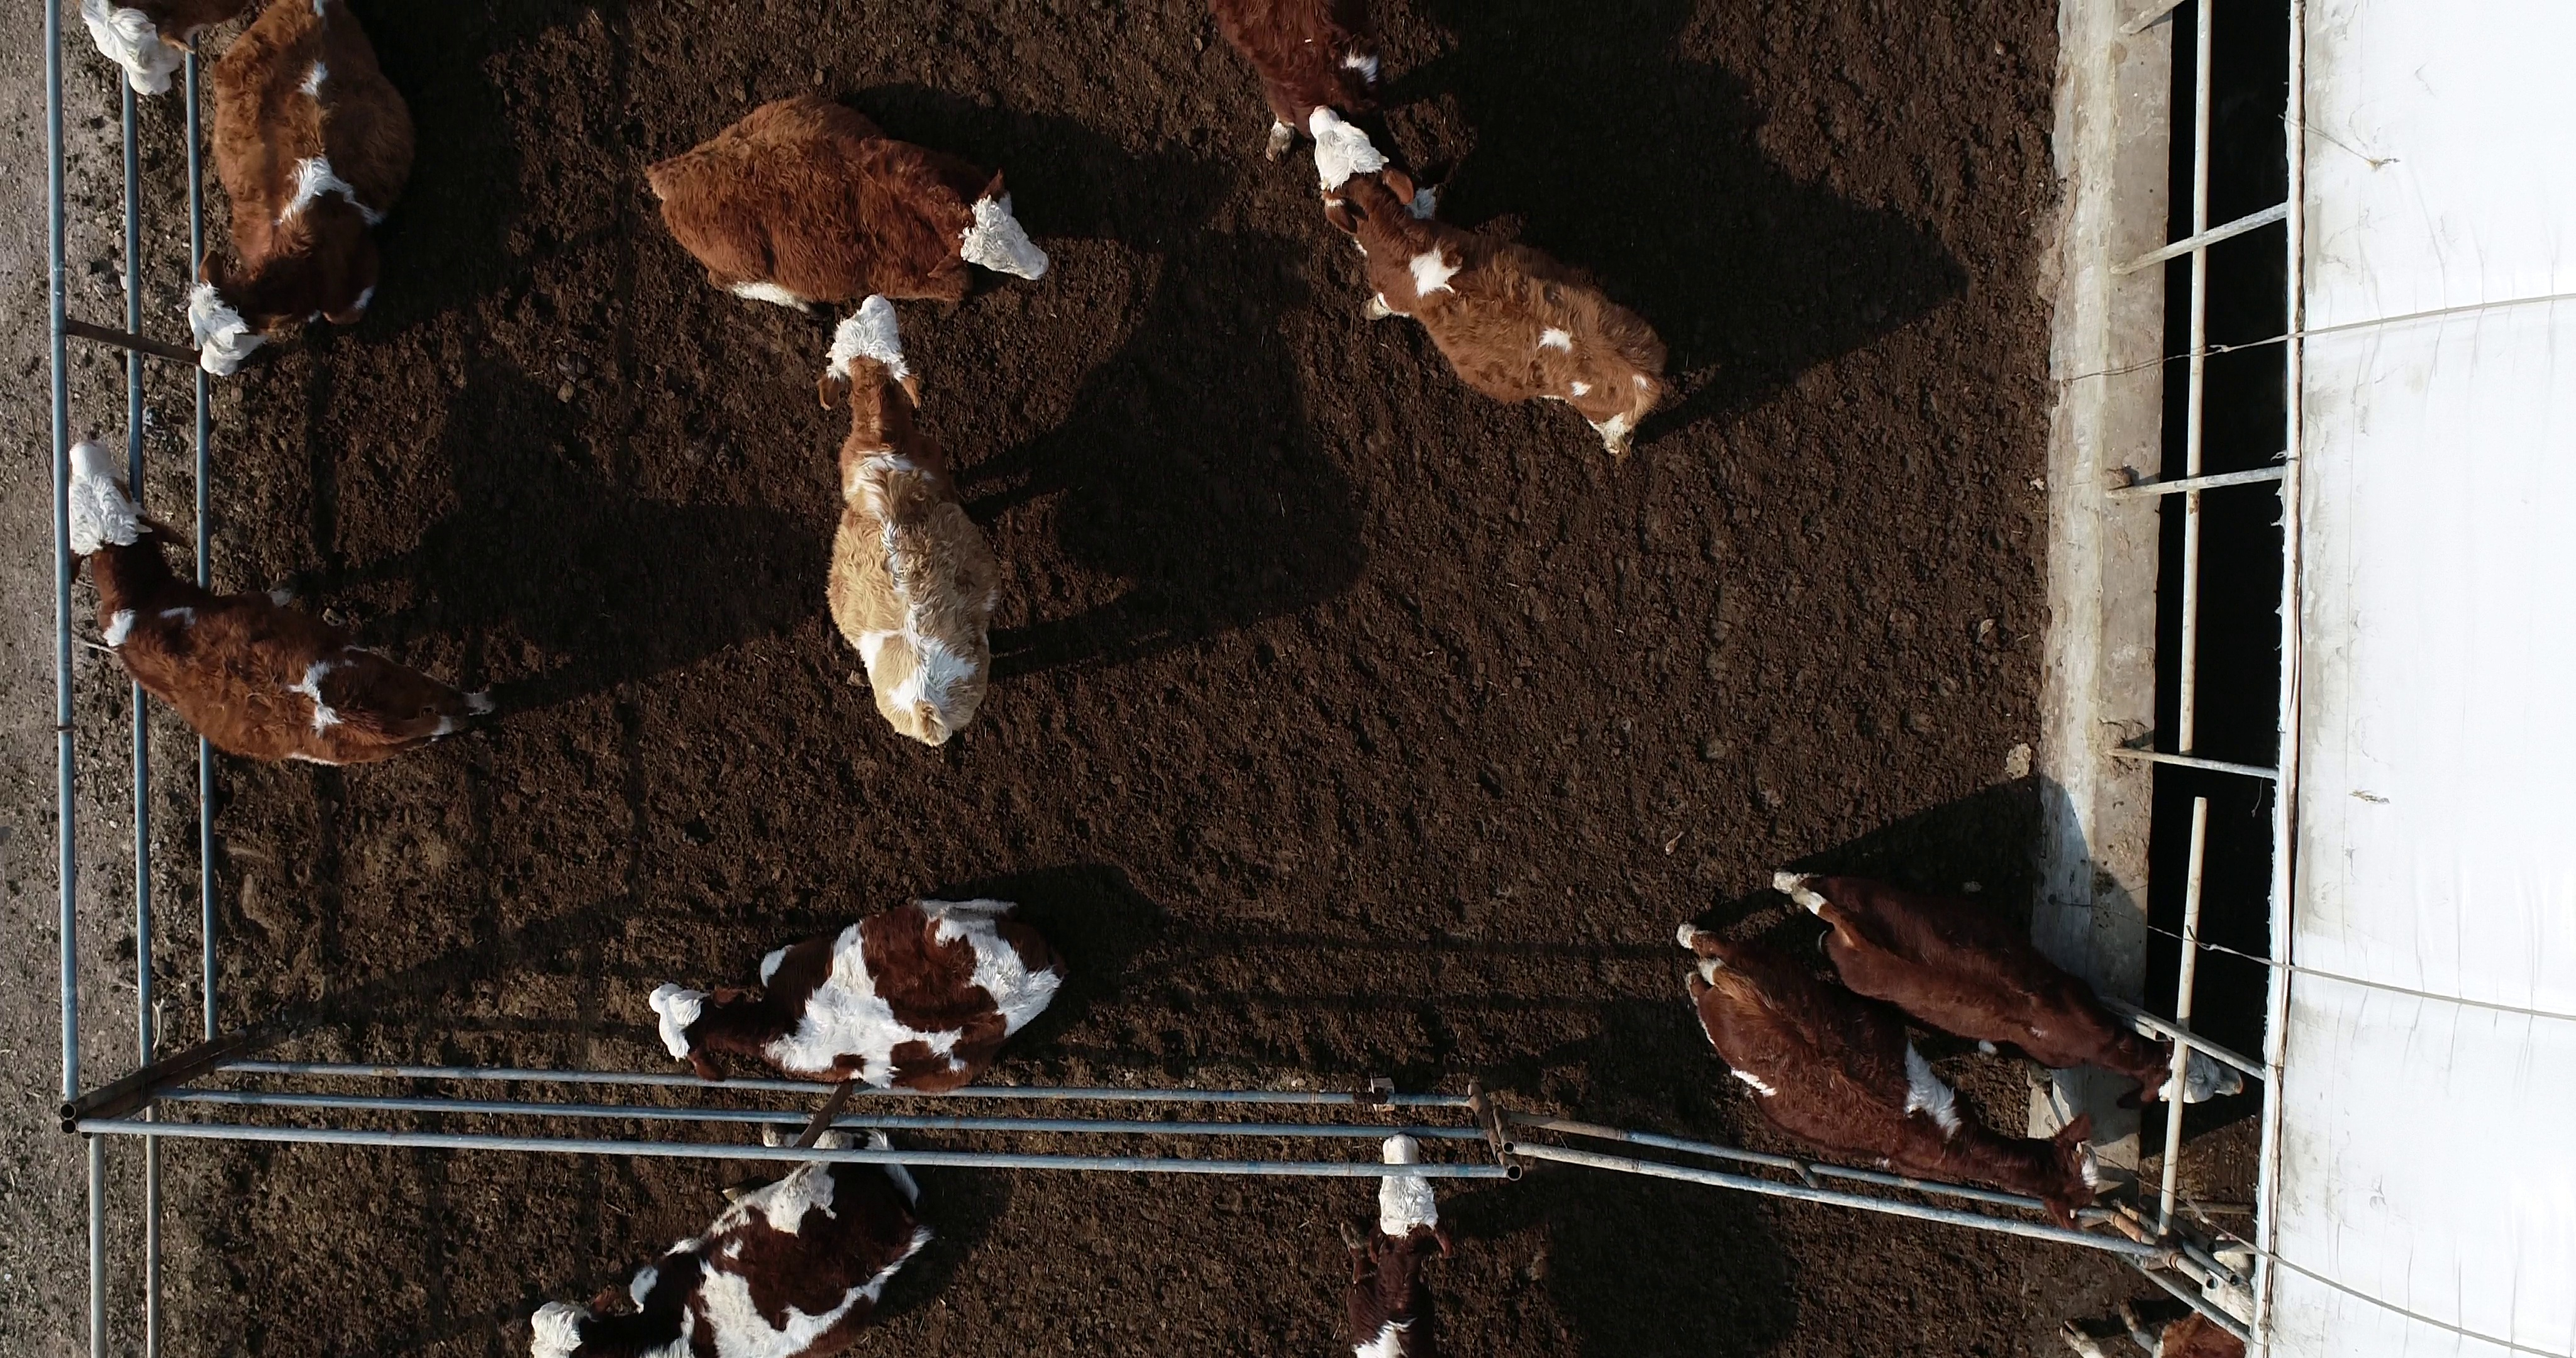cattle: (58, 436, 508, 772), (1668, 917, 2104, 1244), (1302, 99, 1685, 467), (1768, 855, 2249, 1118), (806, 288, 1012, 757), (637, 90, 1056, 320)
